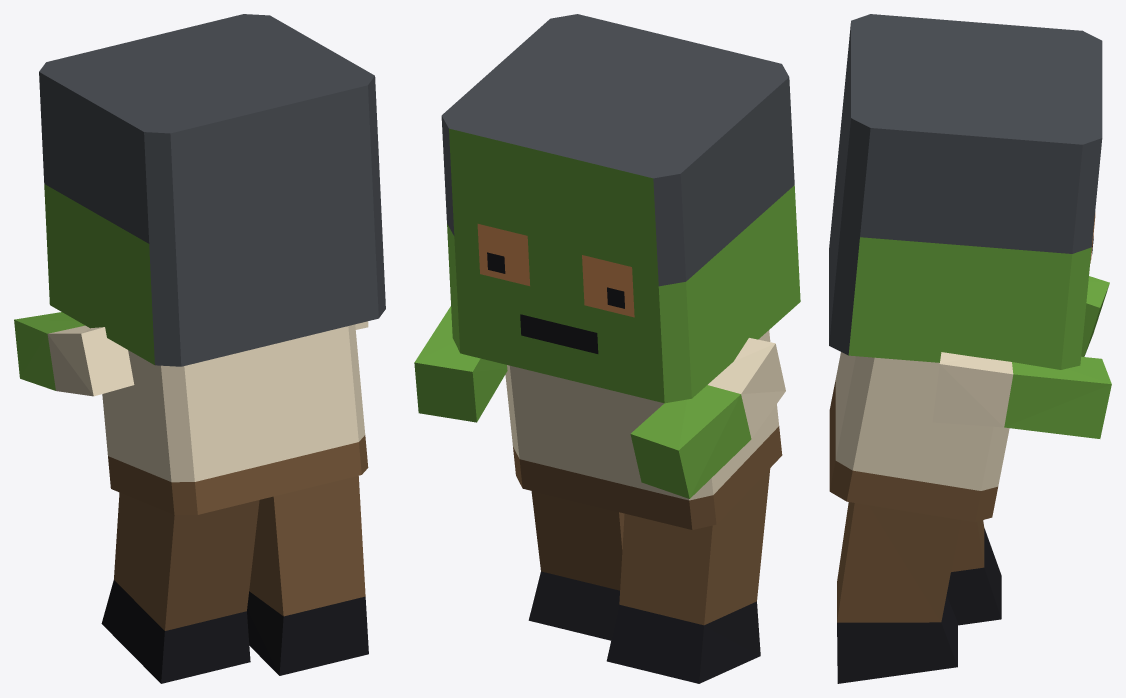
Rendered from enm_walker_lod1.glb.
The picture shows the model from 3 angles, left to right: view 1: azimuth 30°, elevation 25°; view 2: azimuth 150°, elevation 25°; view 3: azimuth 270°, elevation 25°; orthographic projection. The views are drawn at different scales.
Parts seen in each view (by area): view 1: enm_walker_lod1; view 2: enm_walker_lod1; view 3: enm_walker_lod1.
Boxes of the visible parts, x1,y1,x2,y2 form: enm_walker_lod1: (14, 14, 385, 683); enm_walker_lod1: (414, 14, 800, 683); enm_walker_lod1: (829, 14, 1111, 683).
Bounding box in the file's own units: 0.8332 × 1.59 × 0.7154.
Materials: 1 (1 with a texture image).
